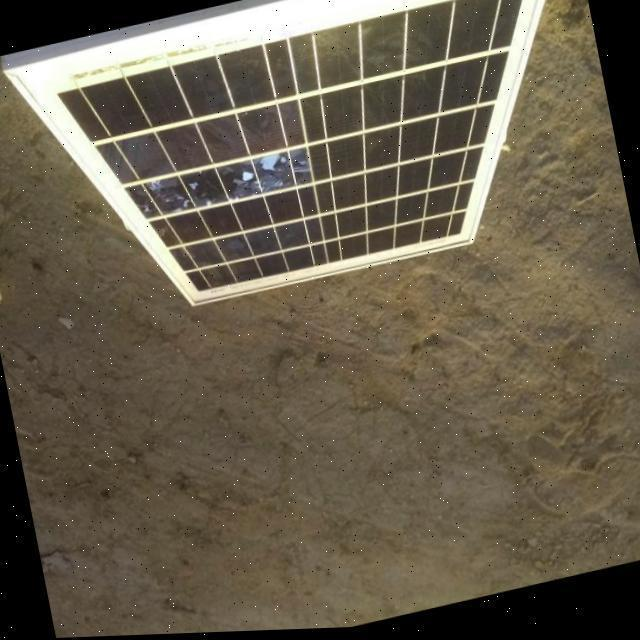Normal Solar Panel: (8, 0, 614, 336)
